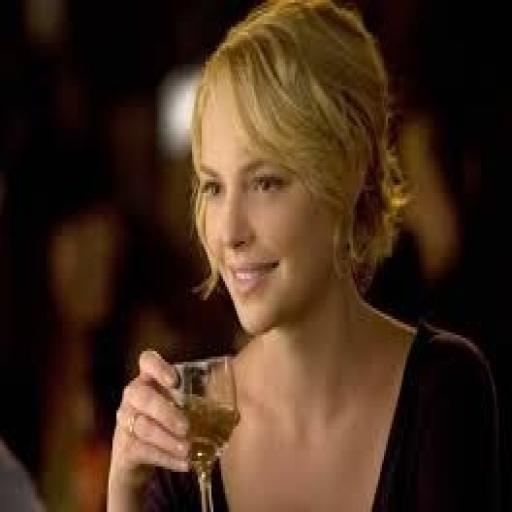drinking: (165, 354, 240, 509)
